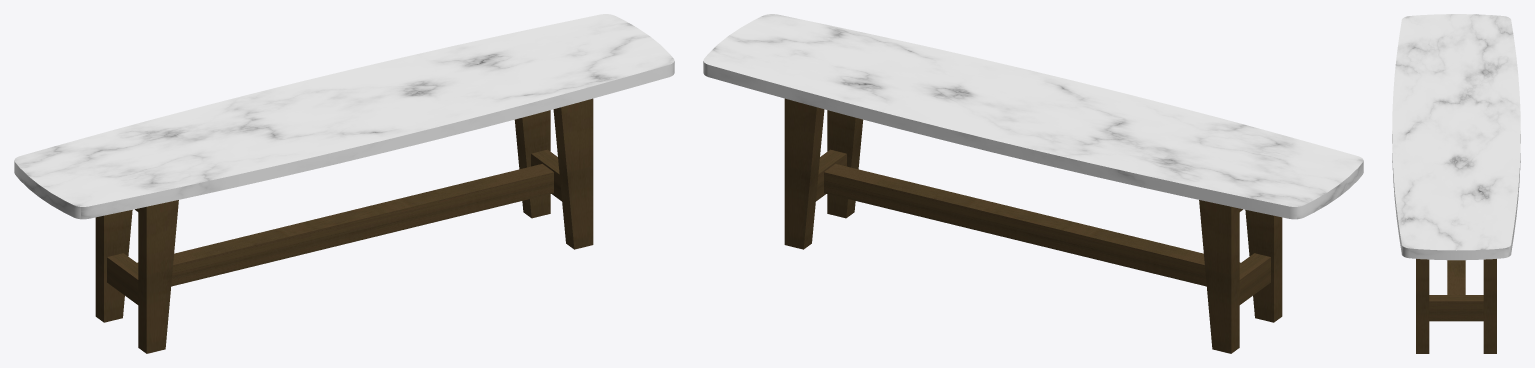
File: coffee_table.glb
3 views of the same model, side by side, from view 1: azimuth 30°, elevation 25°; view 2: azimuth 150°, elevation 25°; view 3: azimuth 270°, elevation 25° (orthographic). The views are drawn at different scales.
Parts seen in each view (by area): view 1: top_Cube, legs_Cube.001; view 2: top_Cube, legs_Cube.001; view 3: top_Cube, legs_Cube.001.
Boxes of the visible parts, x1,y1,x2,y2 form: top_Cube: [14, 14, 674, 219]; legs_Cube.001: [95, 98, 593, 353]; top_Cube: [703, 14, 1363, 219]; legs_Cube.001: [784, 98, 1282, 353]; top_Cube: [1392, 14, 1520, 260]; legs_Cube.001: [1416, 259, 1496, 353].
Bounding box in the file's own units: 1.55 × 0.4132 × 0.3564.
Materials: 2 (2 with a texture image).
